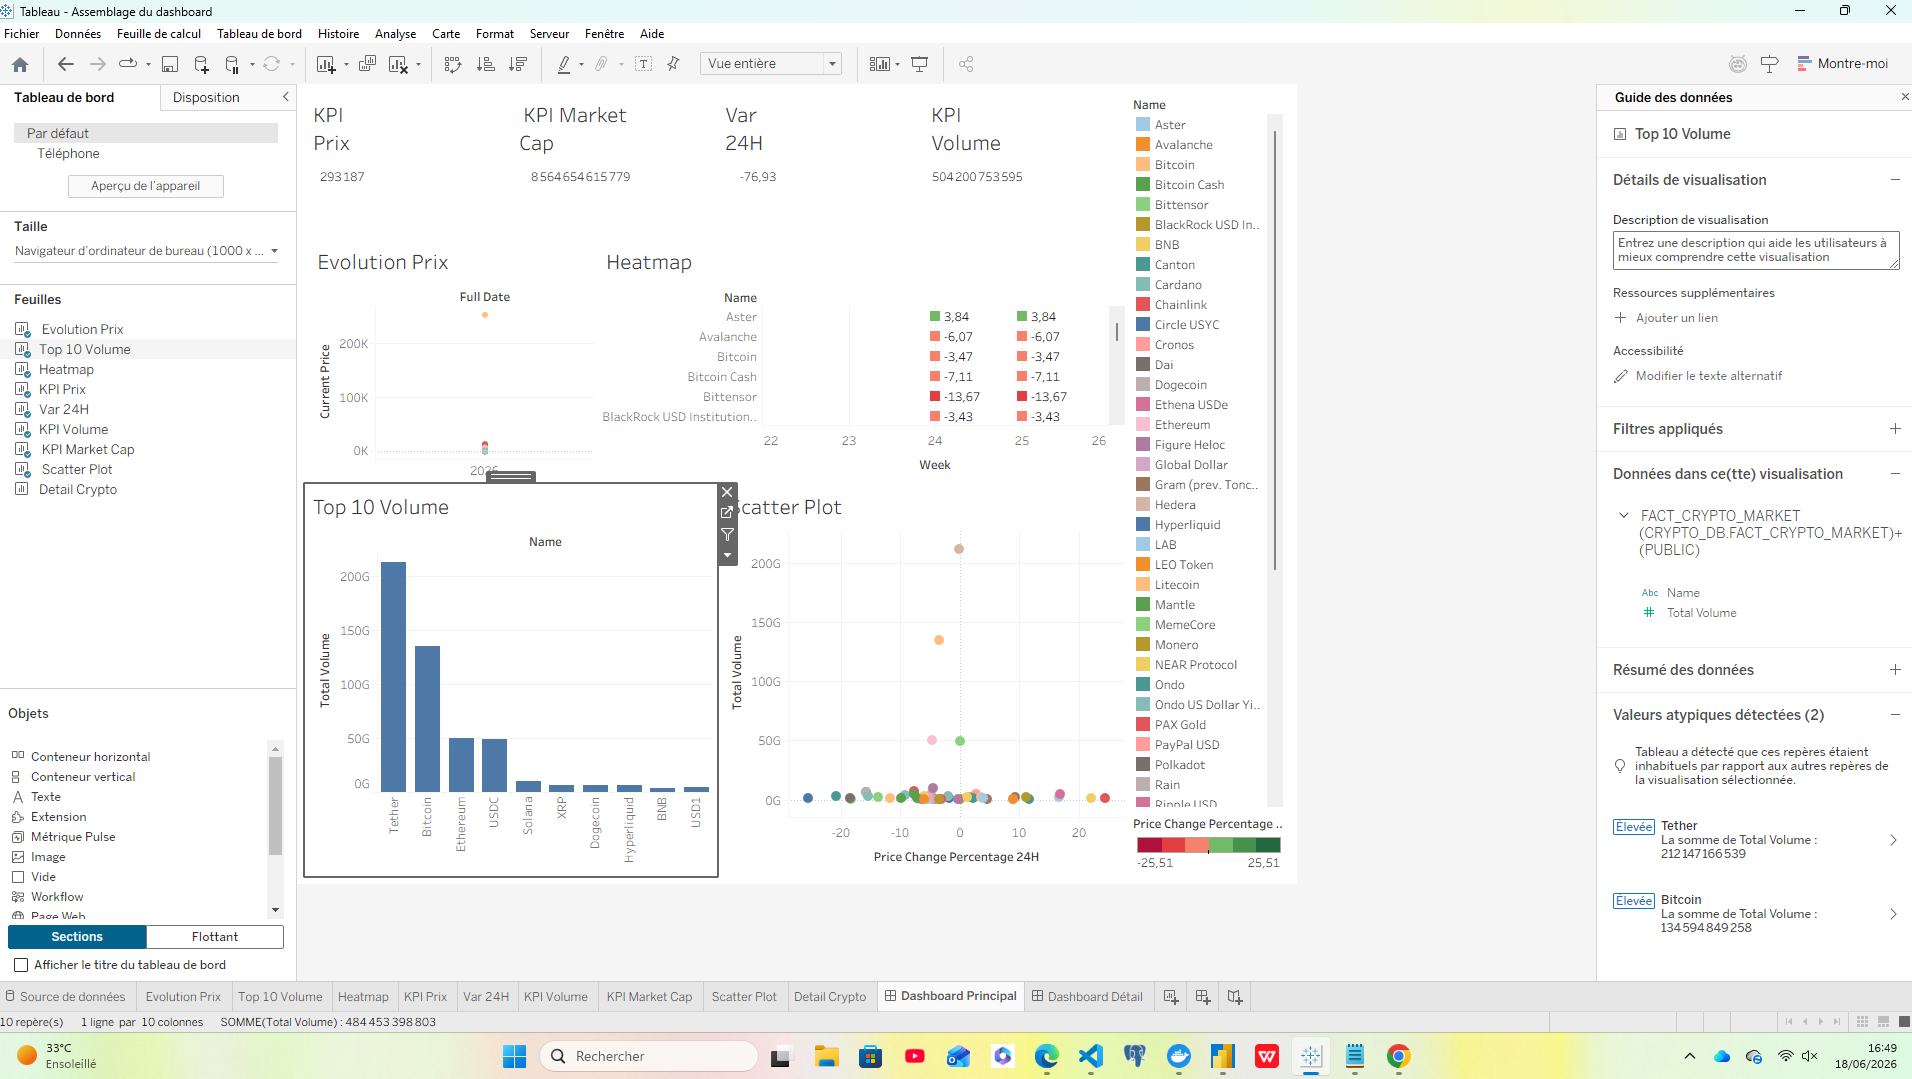

The dashboard page shown, as its layout file describes it:
{"tool":"tableau","page":{"name":"Dashboard Principal","canvas":[1000,800],"ordinal":1},"visuals":[{"type":"worksheet","title":"KPI Prix","mark":"Text","box":[8,8,206,147]},{"type":"worksheet","title":" KPI Market Cap","mark":"Text","box":[214,8,206,147]},{"type":"worksheet","title":"Var 24H","mark":"Text","box":[420,8,206,147]},{"type":"worksheet","title":"KPI Volume","mark":"Text","box":[626,8,206,147]},{"type":"legend","title":" Scatter Plot","param":"[federated.1914bj50nye9wx14ybtc51y8ye3l].[none:NAME:nk]","box":[832,8,160,719]},{"type":"worksheet","title":" Evolution Prix","mark":"Automatic","rows":["CURRENT_PRICE"],"cols":["FULL_DATE"],"box":[8,155,293,245]},{"type":"worksheet","title":"Heatmap","mark":"Square","rows":["NAME"],"cols":["WEEK"],"box":[301,155,531,245]},{"type":"worksheet","title":"Top 10 Volume","mark":"Automatic","rows":["TOTAL_VOLUME"],"cols":["NAME"],"box":[8,400,412,392]},{"type":"worksheet","title":" Scatter Plot","mark":"Circle","rows":["TOTAL_VOLUME"],"cols":["PRICE_CHANGE_PERCENTAGE_24H"],"box":[420,400,412,392]},{"type":"legend","title":"Heatmap","param":"[federated.1914bj50nye9wx14ybtc51y8ye3l].[sum:PRICE_CHANGE_PERCENTAGE_24H:qk]","box":[832,727,160,65]}]}

Visuals, with their boxes on the page's 1000x800 design canvas (x1, y1, x2, y2). These are canvas units, not pixel positions in the 1912x1079 screenshot, which may show the page scaled, cropped or inside an application window:
"KPI Prix" worksheet (Text marks): box=[8, 8, 214, 155]
" KPI Market Cap" worksheet (Text marks): box=[214, 8, 420, 155]
"Var 24H" worksheet (Text marks): box=[420, 8, 626, 155]
"KPI Volume" worksheet (Text marks): box=[626, 8, 832, 155]
" Scatter Plot" legend: box=[832, 8, 992, 727]
" Evolution Prix" worksheet: box=[8, 155, 301, 400]
"Heatmap" worksheet (Square marks): box=[301, 155, 832, 400]
"Top 10 Volume" worksheet: box=[8, 400, 420, 792]
" Scatter Plot" worksheet (Circle marks): box=[420, 400, 832, 792]
"Heatmap" legend: box=[832, 727, 992, 792]
